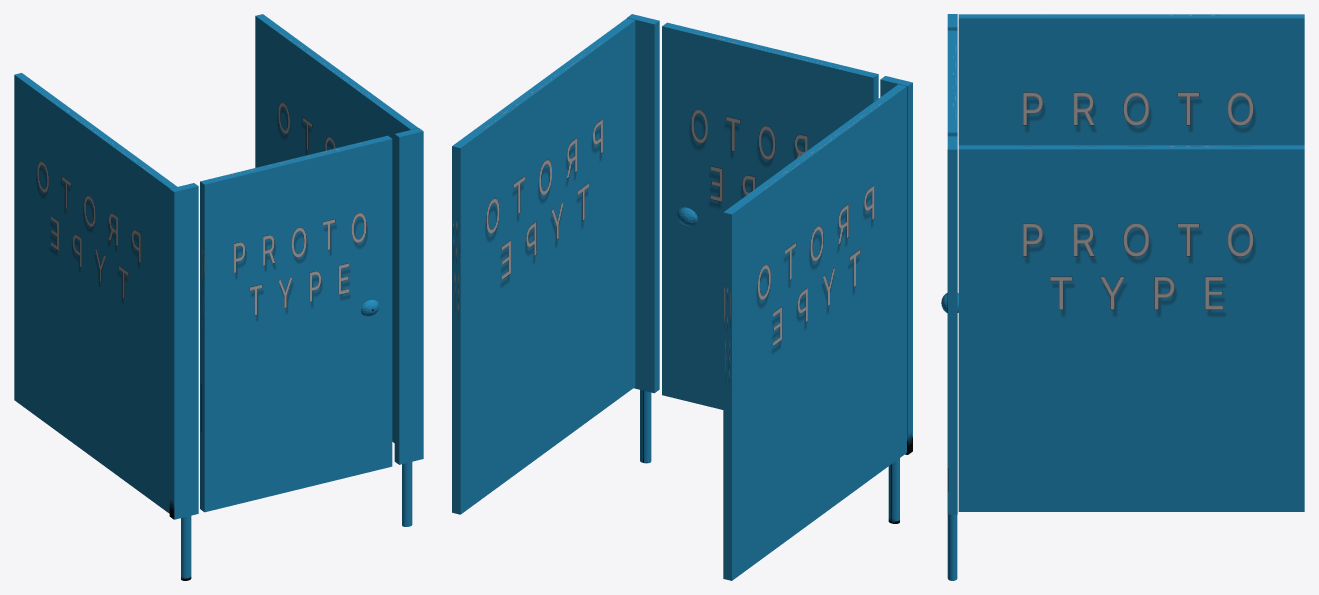
Rendered from ProtoDoor1.fbx.
3 views of the same model, side by side, from view 1: azimuth 30°, elevation 25°; view 2: azimuth 150°, elevation 25°; view 3: azimuth 270°, elevation 25° (orthographic). The views are drawn at different scales.
Parts seen in each view (by area): view 1: Walls, Door, DoorHub; view 2: Walls, Door, DoorHub; view 3: Walls, DoorHub, Door.
Boxes of the visible parts, box(x1,y1,x2,y2) form: Walls: box(14, 14, 417, 513); Door: box(200, 135, 392, 512); DoorHub: box(169, 128, 423, 580); Walls: box(452, 18, 906, 580); Door: box(662, 22, 878, 409); DoorHub: box(627, 14, 912, 523); Walls: box(958, 14, 1304, 511); DoorHub: box(947, 14, 957, 580); Door: box(941, 30, 958, 312).
Bounding box in the file's own units: 638 × 957 × 722.
1 material, 1 textured.
